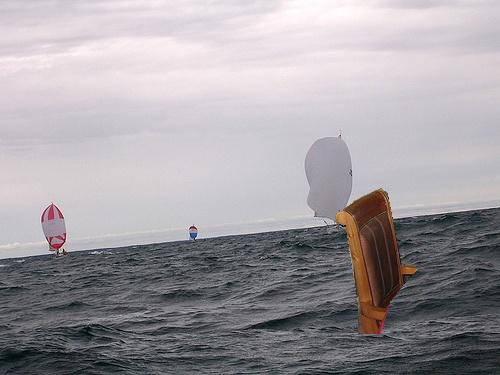tampered: (336, 189, 418, 334)
